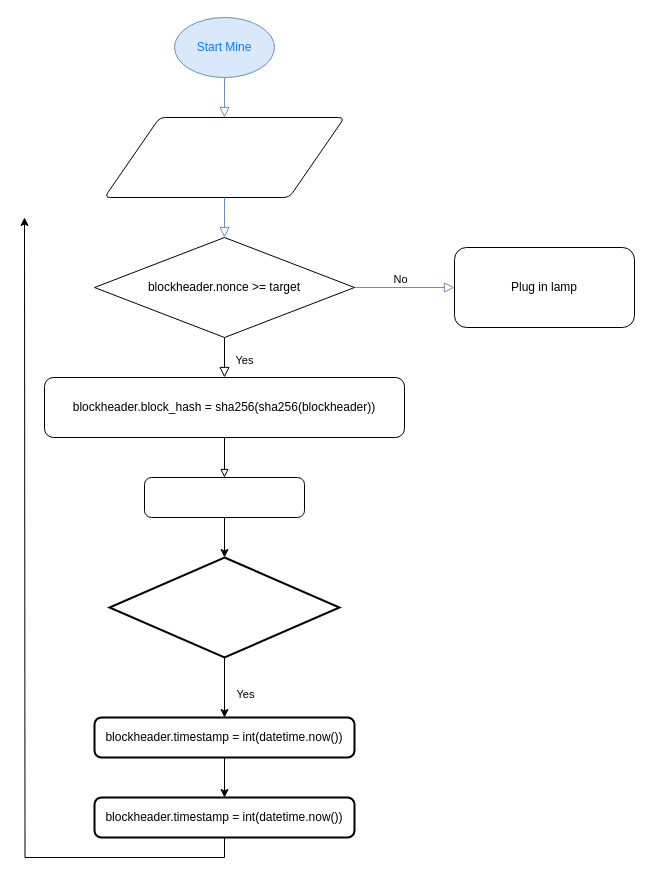
Some shapes in this 652 by 883 pixel diagram are drawn without their labels. The shapes that lost their labels are listed below. From the top down, each one's centre as x and y in pixels, then its label:
the point at 224,157: blockheader, target
the point at 224,497: blockheader.nonce +=1
the point at 224,607: blockheader.nonce > 0xFFFFFFFF
